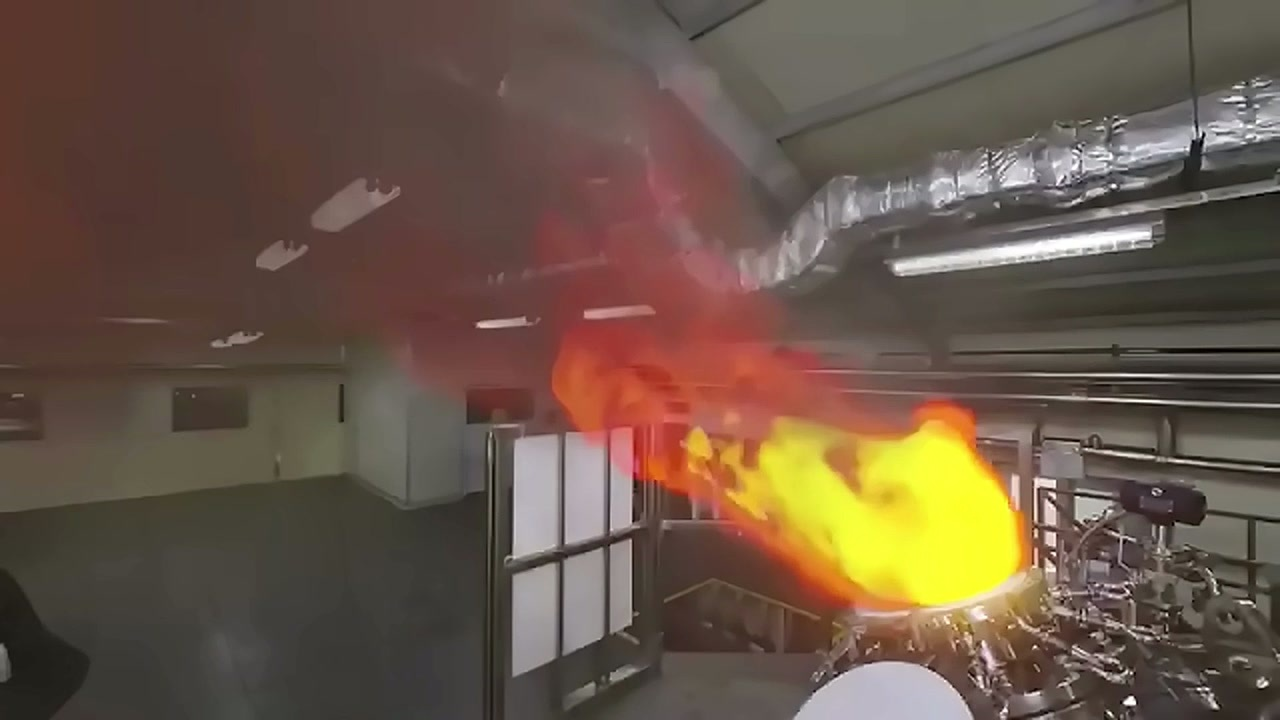fire: (0, 104, 1024, 616)
